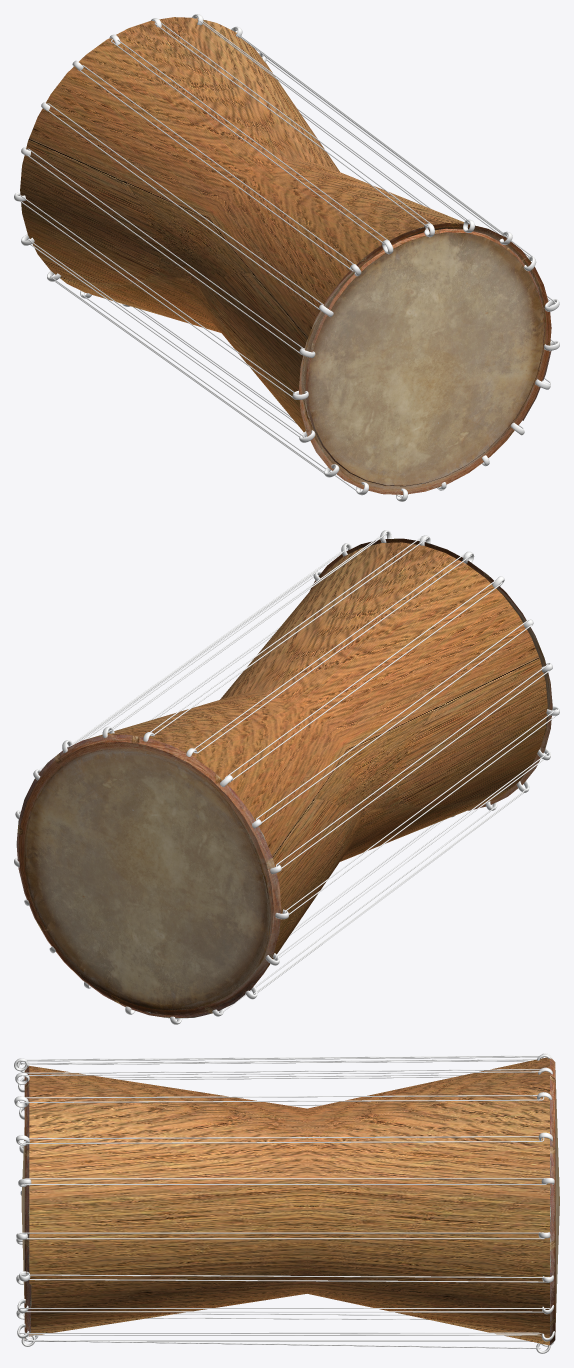
Rendered from drum_com_3.glb.
3 views of the same model, one above another, from view 1: azimuth 30°, elevation 25°; view 2: azimuth 150°, elevation 25°; view 3: azimuth 270°, elevation 25° (orthographic). The views are drawn at different scales.
Visible parts, largest first — view 1: Cylinder.004; view 2: Cylinder.004; view 3: Cylinder.004.
Boxes of the visible parts, <box> form: Cylinder.004: <box>14,14,559,501</box>; Cylinder.004: <box>14,530,559,1024</box>; Cylinder.004: <box>14,1053,559,1353</box>.
Bounding box in the file's own units: 1.04 × 1.03 × 1.88.
Materials: 4 (3 with a texture image).
